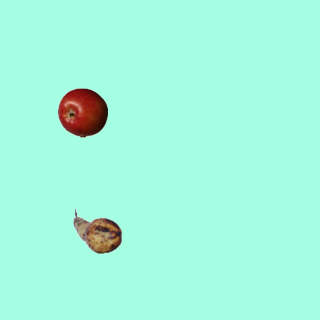Apple Braeburn: (57, 87, 107, 137)
Pear Abate: (72, 206, 122, 256)
